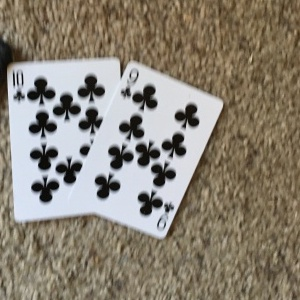card: (74, 59, 225, 241), (7, 56, 122, 227)
